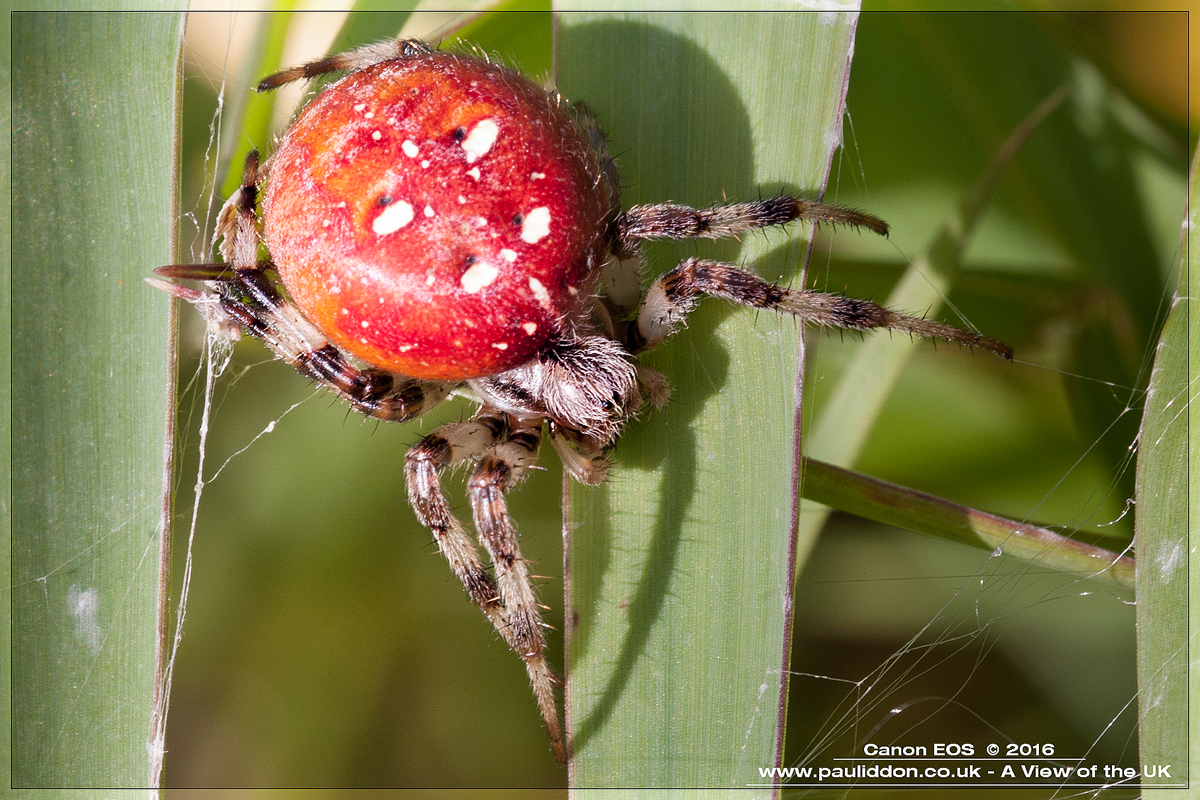spider: (104, 34, 1034, 766)
